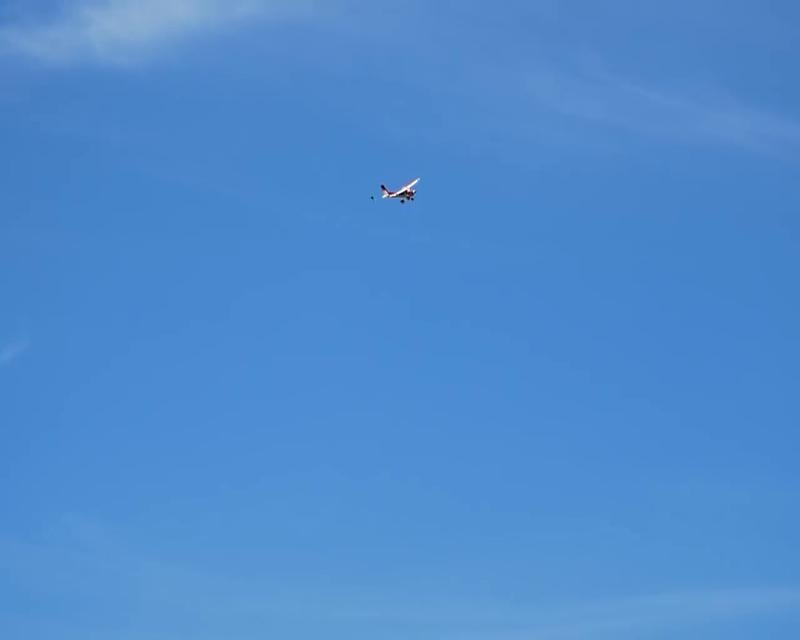UAV: (371, 176, 420, 204)
